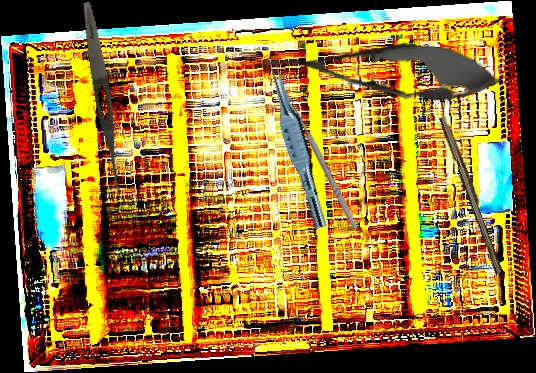Dressing Forceps: (78, 1, 129, 196)
Hook Surgical: (277, 89, 361, 234)
Micro Scissor: (264, 32, 504, 108)
Scalpel Handle: (436, 114, 508, 275)
Tissue Forceps: (258, 58, 337, 231)
